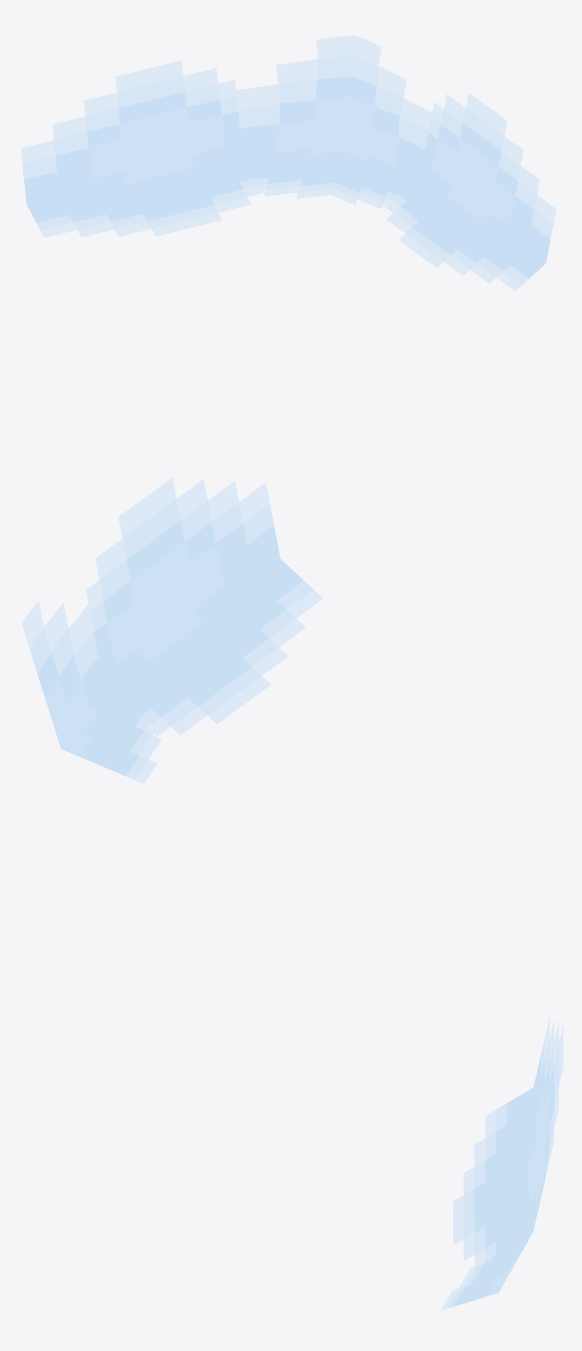
The picture shows the model from 3 angles, top to bottom: view 1: azimuth 30°, elevation 25°; view 2: azimuth 150°, elevation 25°; view 3: azimuth 270°, elevation 25°; orthographic projection. The views are drawn at different scales.
Size of the model in its own units: 1 by 0.5088 by 1.
Materials: 1 (1 with a texture image).
